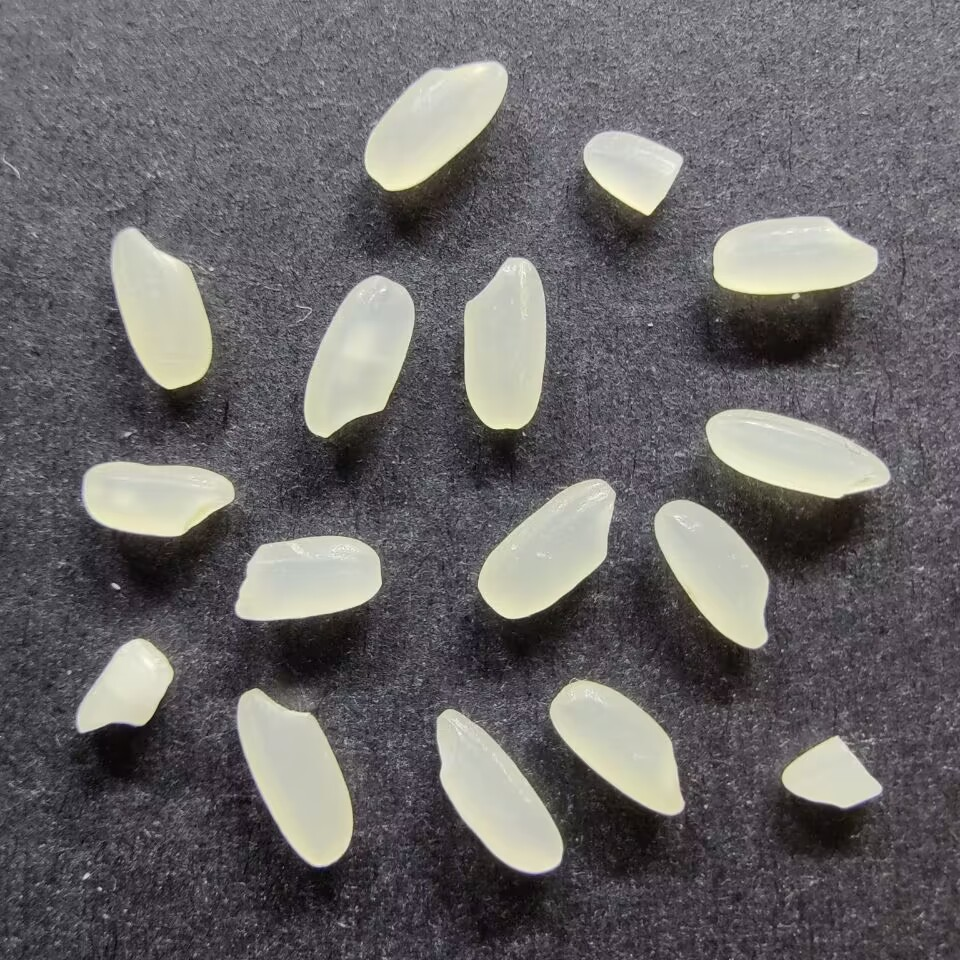broken: (71, 636, 177, 735), (581, 129, 684, 217), (780, 734, 886, 811)
rice: (433, 707, 566, 875), (236, 688, 354, 869), (547, 677, 688, 819), (476, 477, 616, 620), (362, 58, 509, 192), (302, 271, 416, 439), (652, 498, 773, 650), (704, 407, 892, 500), (109, 225, 213, 392), (461, 255, 548, 431), (712, 213, 879, 296), (231, 534, 383, 622), (80, 459, 236, 538)
